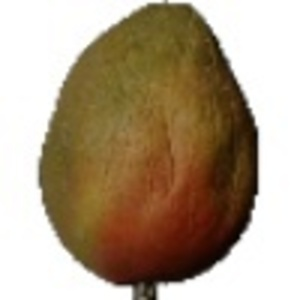mamão: (27, 3, 269, 287)
